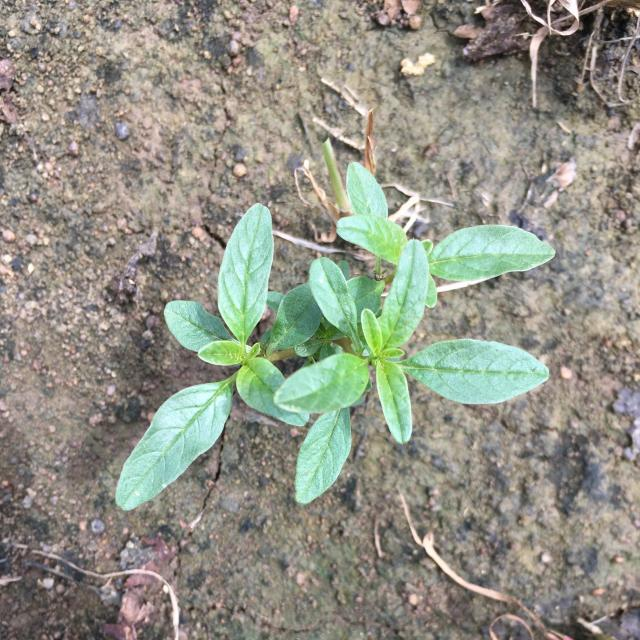Waterhemp: (116, 160, 556, 512)
